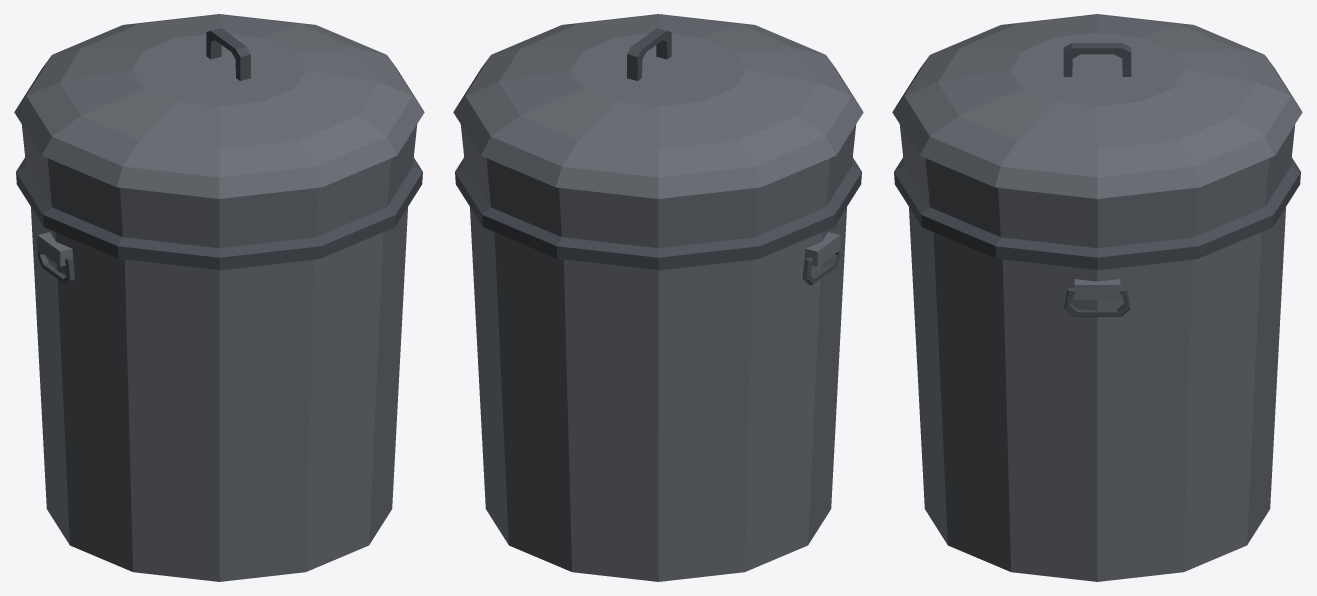
File: Trash Bin_3.fbx
3 renders of one model, left to right at view 1: azimuth 30°, elevation 25°; view 2: azimuth 150°, elevation 25°; view 3: azimuth 270°, elevation 25°, orthographic.
Visible parts, largest first — view 1: Trash Bin_3; view 2: Trash Bin_3; view 3: Trash Bin_3.
Boxes of the visible parts, box(x1,y1,x2,y2) form: Trash Bin_3: box(14, 14, 424, 581); Trash Bin_3: box(453, 14, 863, 581); Trash Bin_3: box(892, 14, 1302, 581).
Bounding box in the file's own units: 140 × 177 × 140.
